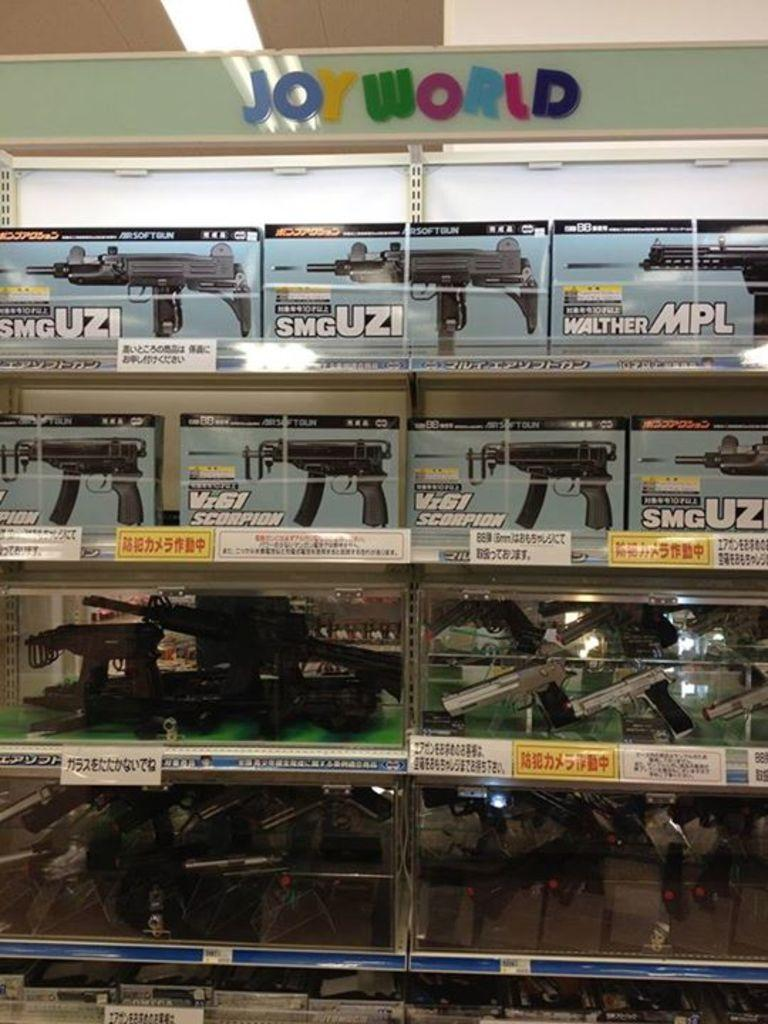weapon: (17, 589, 410, 741), (272, 228, 544, 362), (21, 242, 252, 343), (186, 436, 400, 530), (462, 435, 622, 539), (632, 235, 766, 350), (0, 436, 156, 534), (560, 654, 704, 748), (434, 653, 583, 735), (672, 424, 766, 486), (696, 678, 766, 716)
